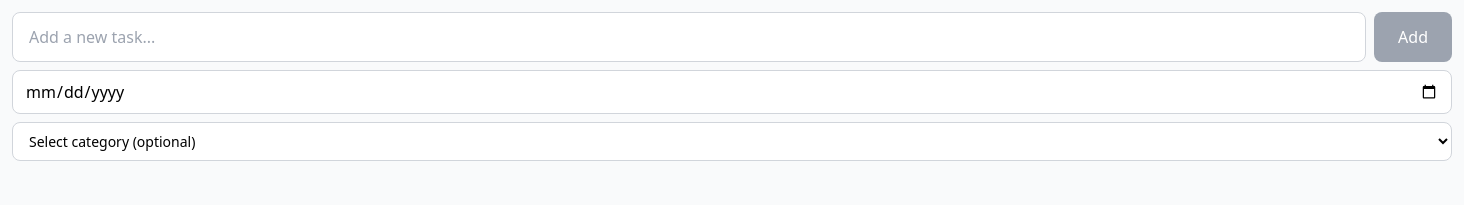
Test case: AddTaskInput › should_clear_error_when_user_types
In the field with placeholder "Add a new task...": [689, 37] box 12,12 -> 1366,62, type "New task"
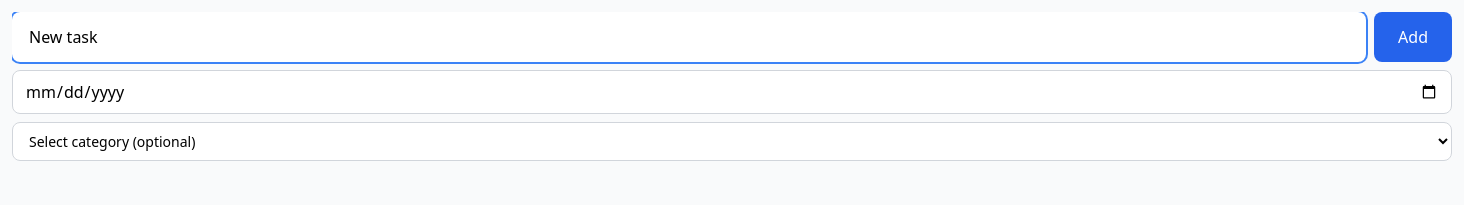
Click the button "Add": [1413, 37] box 1374,12 -> 1452,62
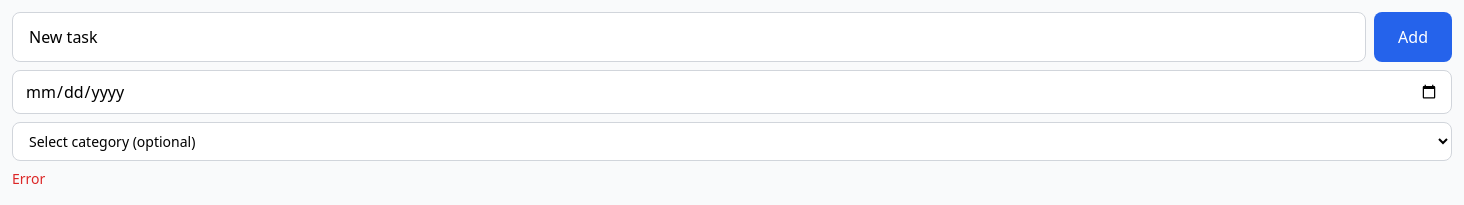
Now the text "Error" is shown, box 12,169 -> 45,188
In the field with placeholder "Add a new task...": [689, 37] box 12,12 -> 1366,62, type "x"
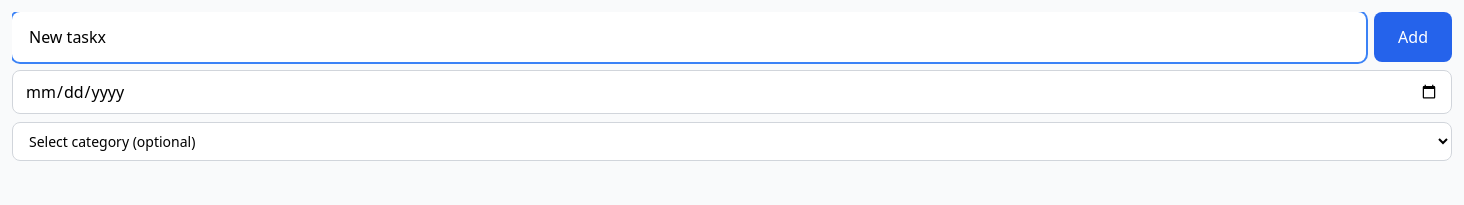
Now the text "Error" is gone
